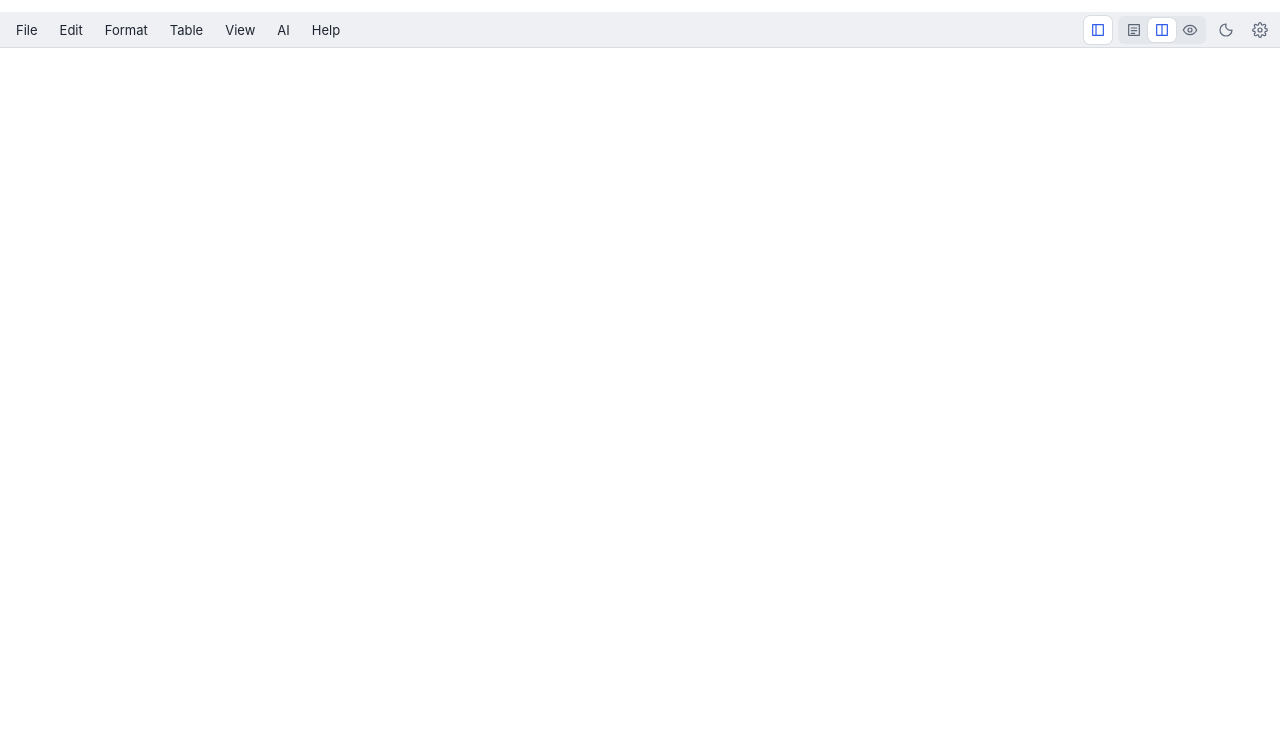
Test: menu bar › shows check marks for settings that are on
The width and height of the screenshot is (1280, 732).
Click the button "View": x=240, y=30 [215, 16, 265, 44]
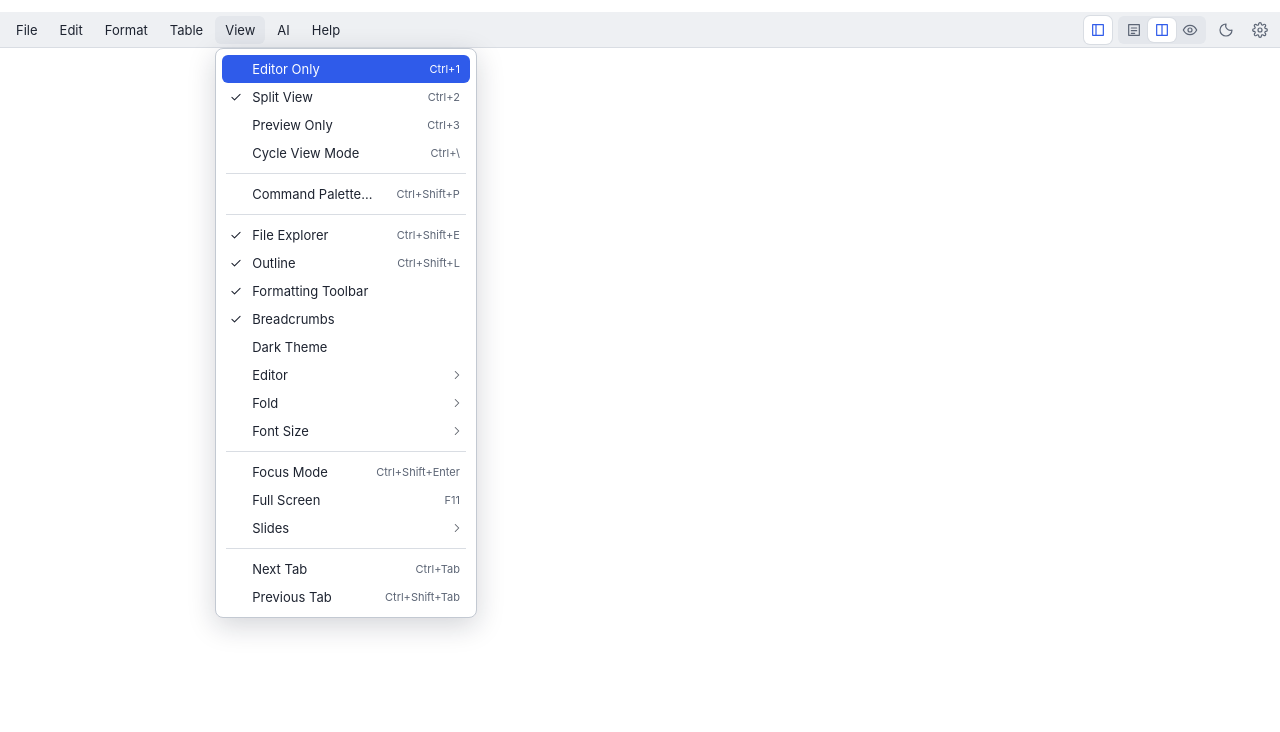
Click the menu item "Editor": x=346, y=374 [222, 360, 470, 388]
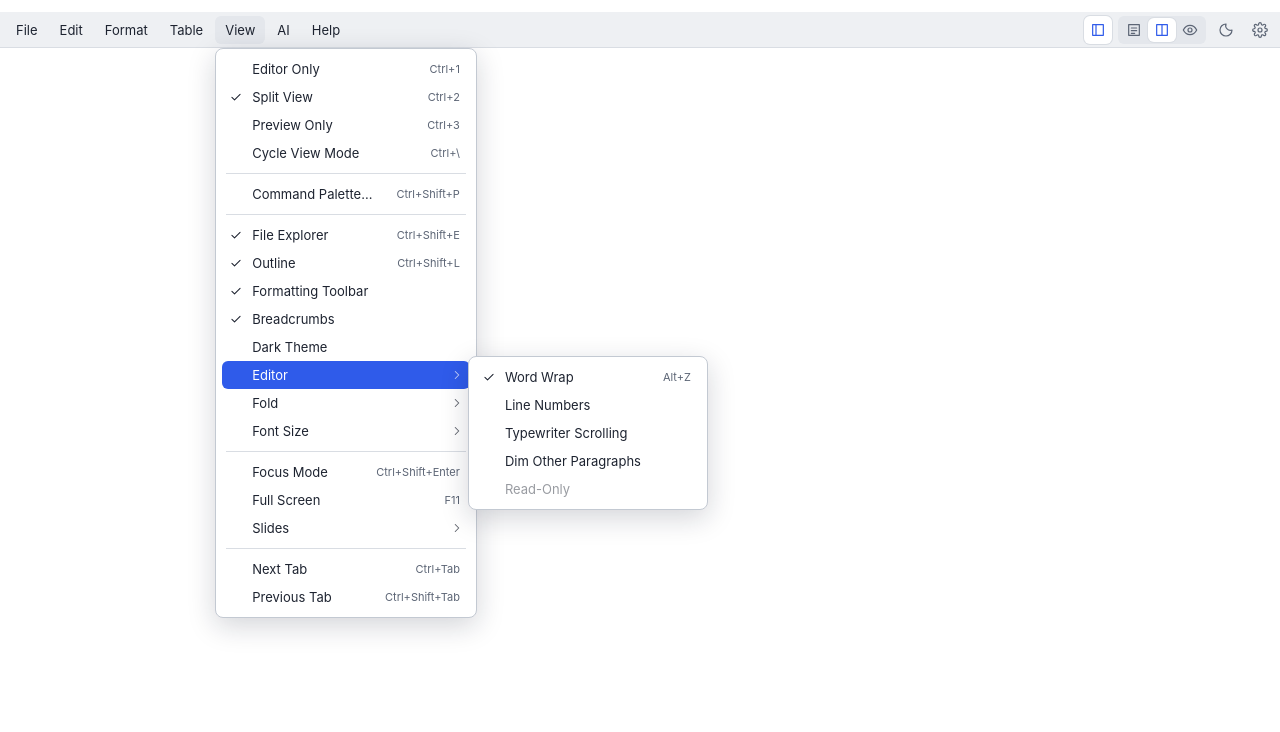
Click the menu item "Line Numbers": x=588, y=404 [475, 390, 701, 418]
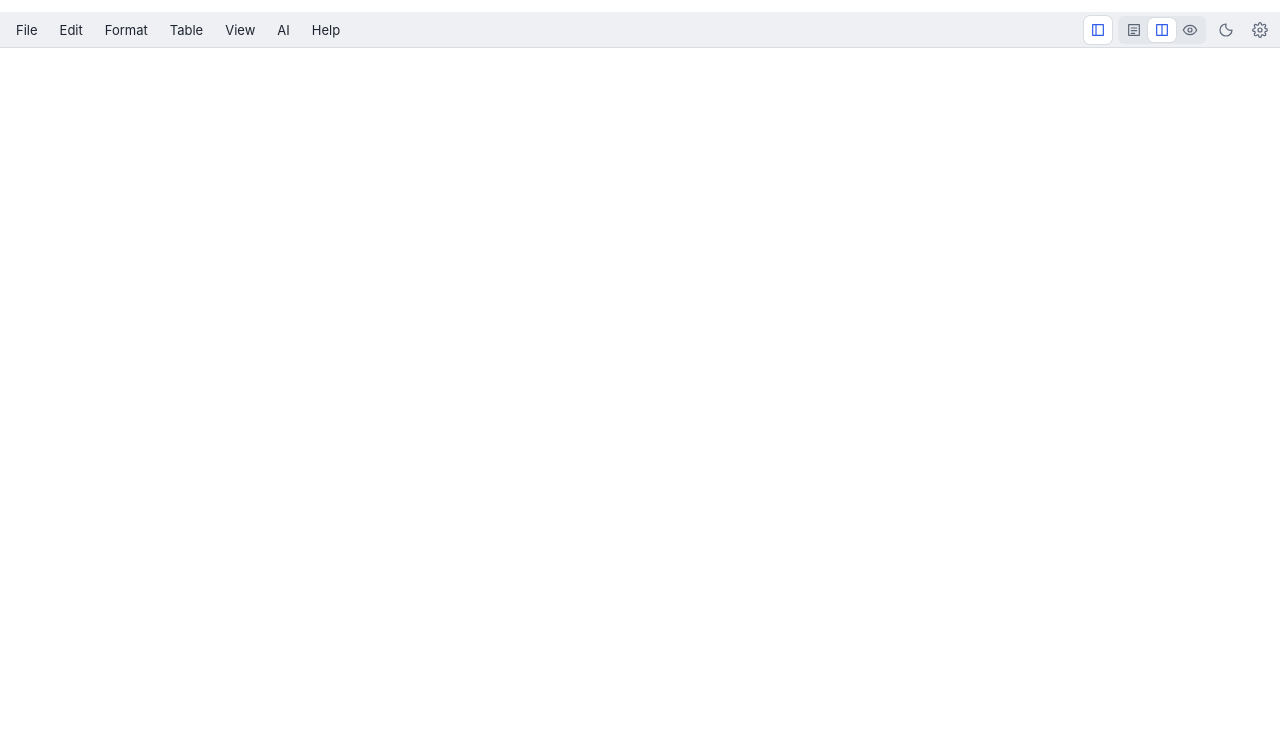
Check: the menu is gone
